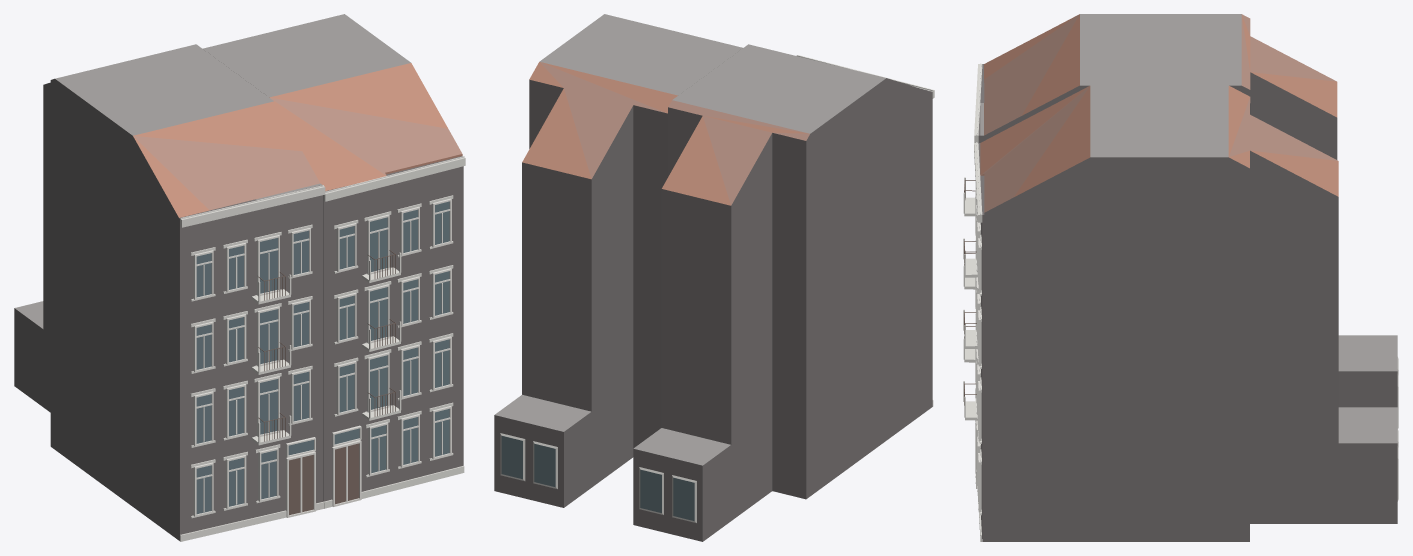
The model's file is chunk-face-pretorius-71-95-r1.glb.
3 renders of one model, left to right at view 1: azimuth 30°, elevation 25°; view 2: azimuth 150°, elevation 25°; view 3: azimuth 270°, elevation 25°, orthographic. The views are drawn at different scales.
Visible parts, largest first — view 1: face-pretorius-71-95-r1; view 2: face-pretorius-71-95-r1; view 3: face-pretorius-71-95-r1.
Part boxes in pixels (x1,y1,x2,y2): face-pretorius-71-95-r1: (14, 14, 465, 541); face-pretorius-71-95-r1: (494, 14, 934, 541); face-pretorius-71-95-r1: (963, 14, 1398, 541).
Bounding box in the file's own units: 13.59 × 16.99 × 17.42.
